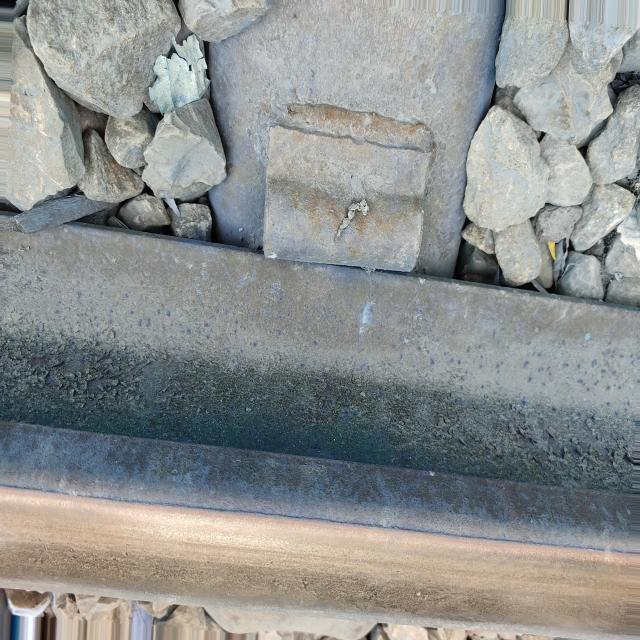Missing Fastener: (224, 82, 470, 361)
